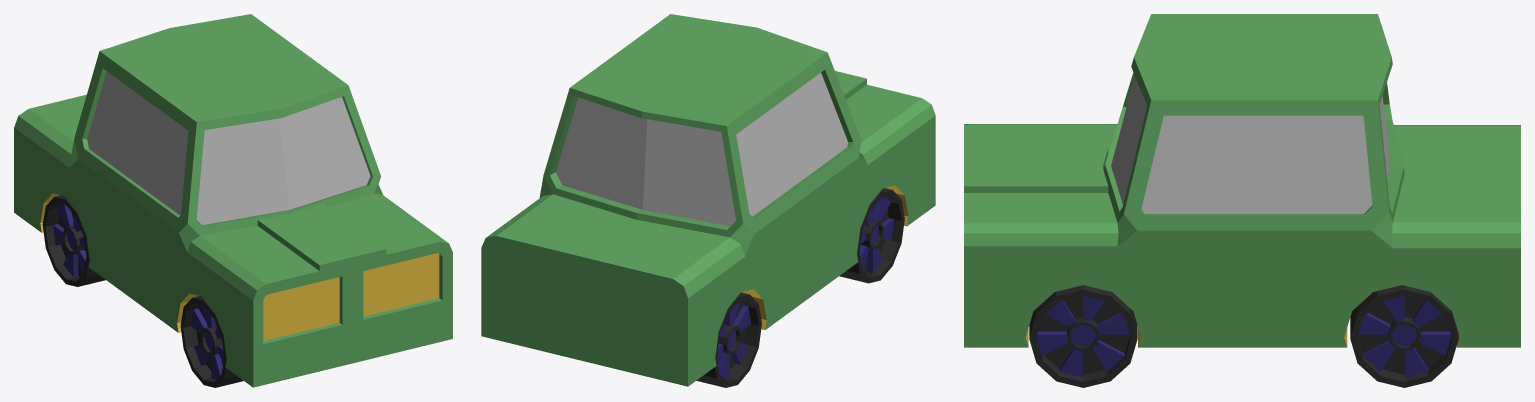
Rendered from Mobil NPC FIX SU ASU.fbx.
The picture shows the model from 3 angles, left to right: view 1: azimuth 30°, elevation 25°; view 2: azimuth 150°, elevation 25°; view 3: azimuth 270°, elevation 25°; orthographic projection. The views are drawn at different scales.
Parts seen in each view (by area): view 1: Cube, Ban.001; view 2: Cube, Ban.001; view 3: Cube, Ban.001.
Part boxes in pixels (x1,y1,x2,y2): Cube: (14,14,452,387); Ban.001: (42,195,243,387); Cube: (481,14,935,386); Ban.001: (696,188,904,387); Cube: (964,14,1520,347); Ban.001: (1029,285,1458,387).
Bounding box in the file's own units: 208 × 235 × 432.
